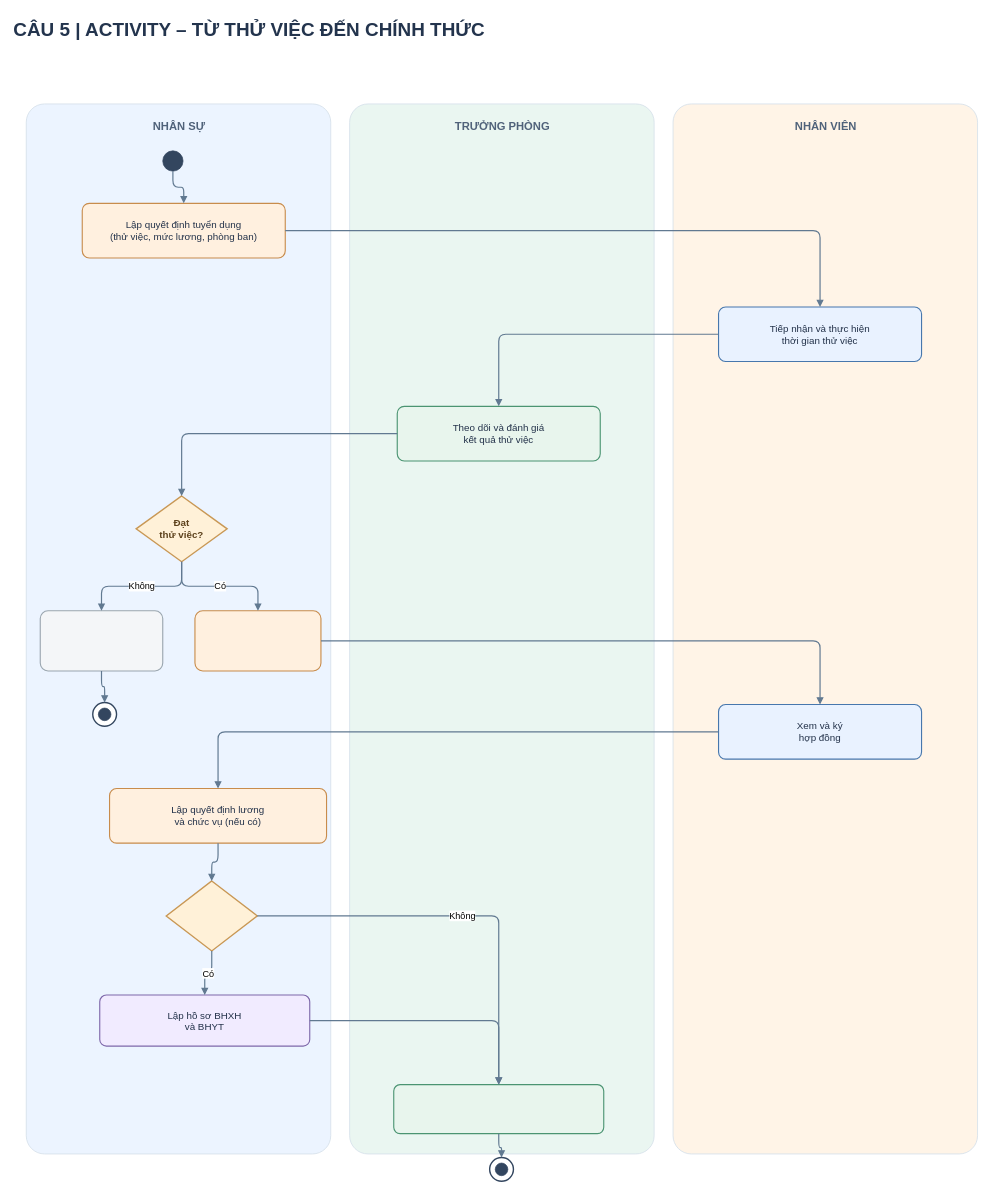
Some shapes in this 1004 by 1194 pixel diagram are drawn without their labels. Each missing label, with the box of its shape:
Hoàn tất hồ sơ nhân viên chính thức: (393, 1084, 604, 1134)
Hợp đồng dài hạn?: (165, 880, 258, 951)
Lập hợp đồng ngắn hạn / dài hạn: (194, 610, 321, 671)
Thông báo không đạt, kết thúc thử việc: (39, 610, 163, 671)
